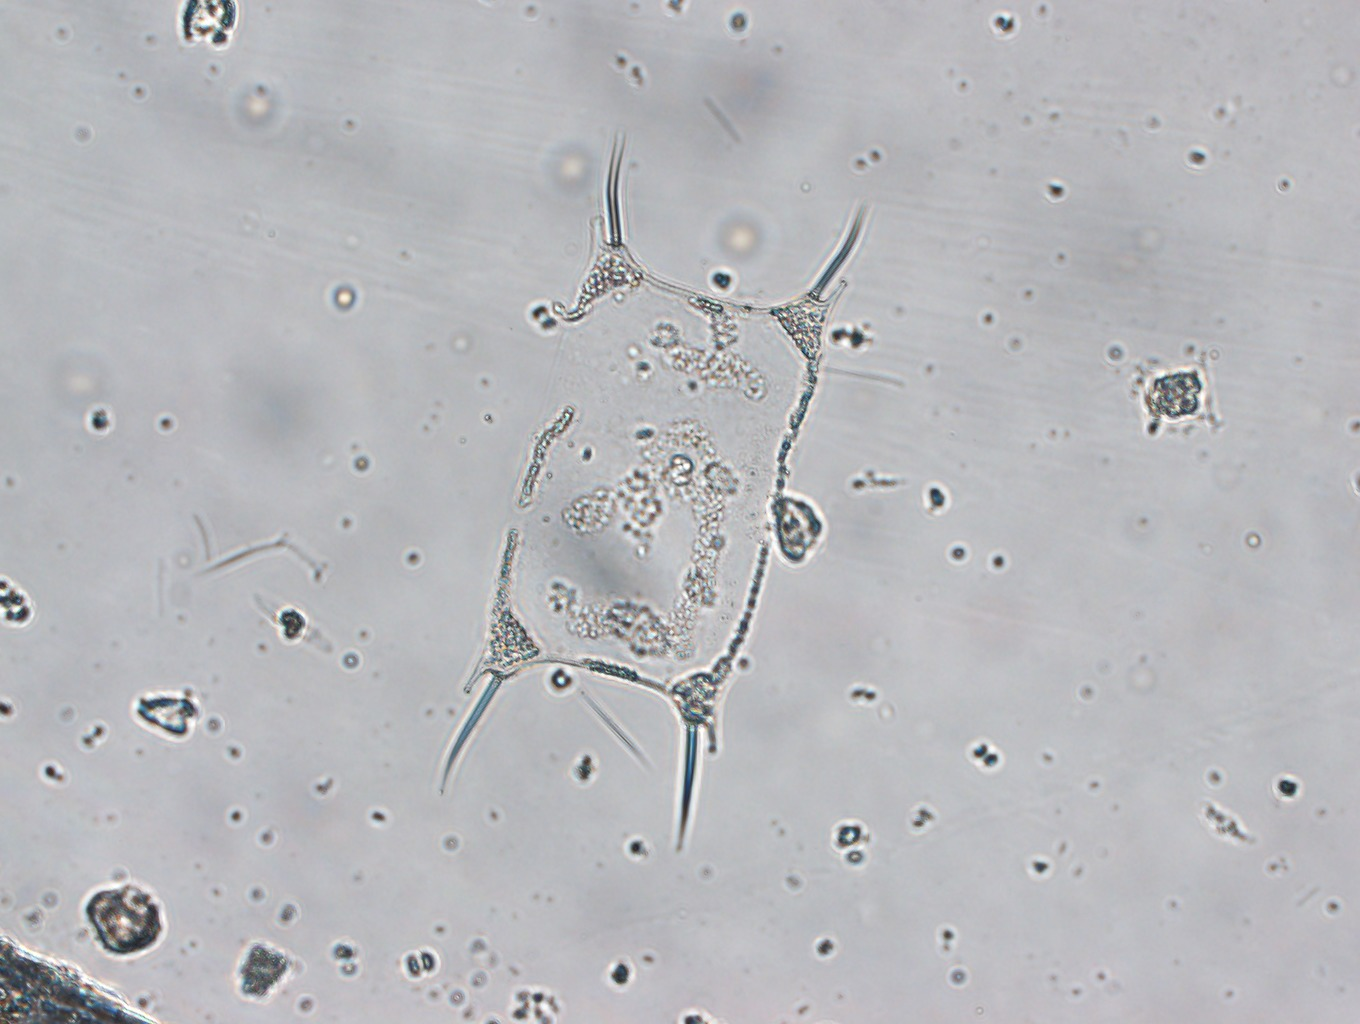biddulphia: (439, 129, 869, 853)
